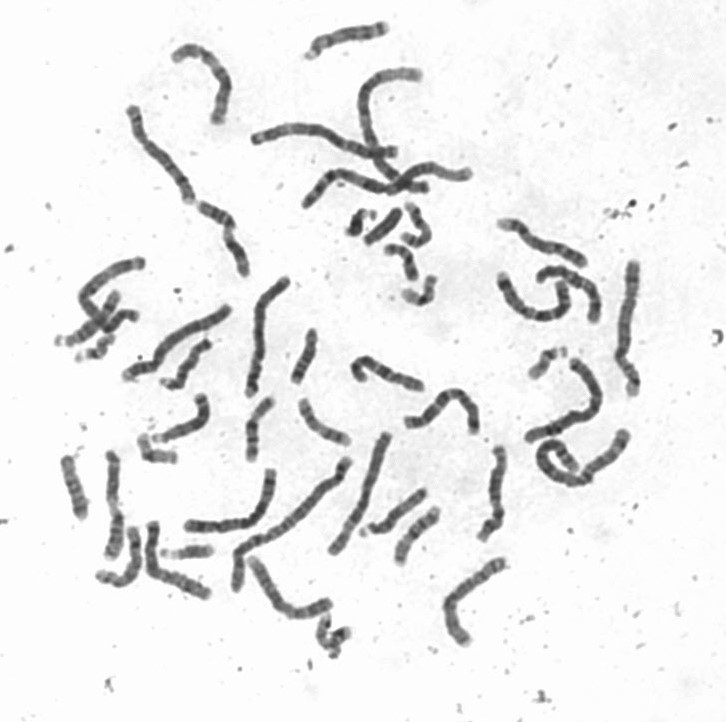chromosomes: (228, 454, 358, 595), (116, 301, 237, 388), (356, 60, 434, 194), (300, 161, 479, 218), (123, 101, 208, 214), (324, 430, 396, 562), (516, 355, 604, 449), (248, 117, 404, 163), (181, 468, 283, 538), (143, 516, 219, 606), (74, 253, 156, 336), (441, 554, 512, 649), (247, 554, 337, 628), (243, 276, 296, 401), (536, 425, 638, 489), (165, 38, 235, 130), (48, 288, 132, 358), (192, 192, 258, 278), (496, 218, 600, 270), (486, 266, 578, 324), (534, 265, 608, 334), (614, 258, 649, 403), (402, 383, 486, 438), (304, 19, 398, 68), (79, 304, 142, 370), (356, 488, 433, 542), (473, 443, 510, 547), (352, 350, 429, 398), (155, 335, 217, 394), (390, 504, 447, 568), (93, 523, 143, 594), (100, 446, 128, 567), (296, 392, 354, 449), (151, 391, 213, 444), (241, 392, 282, 471), (61, 452, 93, 527), (361, 204, 407, 254), (289, 325, 326, 386), (400, 197, 439, 254), (377, 239, 423, 284), (134, 431, 183, 472), (313, 609, 355, 653), (334, 204, 381, 243), (401, 271, 445, 308), (526, 346, 568, 382), (157, 542, 215, 565)
